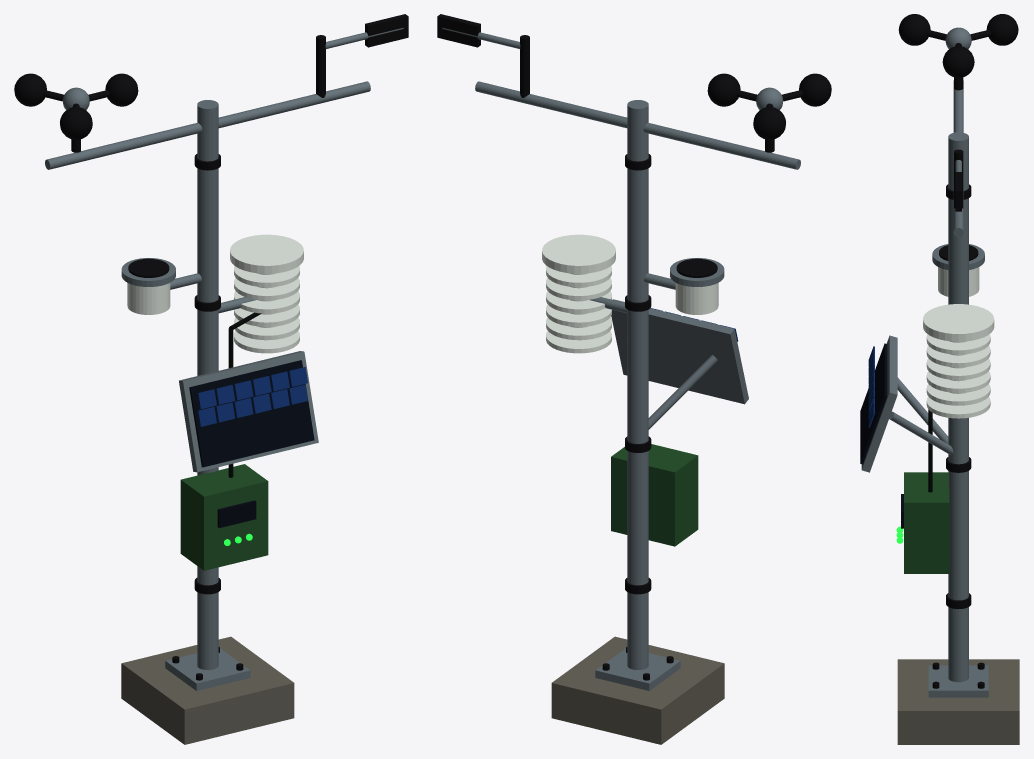
The model's file is estacao.glb.
The picture shows the model from 3 angles, left to right: view 1: azimuth 30°, elevation 25°; view 2: azimuth 150°, elevation 25°; view 3: azimuth 270°, elevation 25°; orthographic projection. The views are drawn at different scales.
Parts seen in each view (by area): view 1: Fundacao de concreto, Mastro principal, Caixa eletronica, Superficie fotovoltaica, Braco horizontal superior, Moldura do painel solar, Tampa do abrigo meteorologico, Placa de fixacao, Corpo do pluviometro, Paleta da biruta, Prato de protecao do sensor, Prato de protecao do sensor.004 (+10 smaller); view 2: Mastro principal, Fundacao de concreto, Moldura do painel solar, Caixa eletronica, Braco horizontal superior, Tampa do abrigo meteorologico, Placa de fixacao, Corpo do pluviometro, Paleta da biruta, Prato de protecao do sensor, Prato de protecao do sensor.004, Prato de protecao do sensor.001 (+9 smaller); view 3: Fundacao de concreto, Mastro principal, Caixa eletronica, Tampa do abrigo meteorologico, Placa de fixacao, Superficie fotovoltaica, Moldura do painel solar, Braco horizontal superior, Prato de protecao do sensor, Prato de protecao do sensor.004, Prato de protecao do sensor.003, Prato de protecao do sensor.001 (+12 smaller).
Part boxes in pixels (box(x1,y1,x2,y2)): Fundacao de concreto: box(121, 636, 294, 744); Mastro principal: box(197, 100, 218, 669); Caixa eletronica: box(180, 464, 268, 570); Superficie fotovoltaica: box(189, 360, 314, 467); Braco horizontal superior: box(45, 81, 370, 169); Moldura do painel solar: box(179, 351, 318, 472); Tampa do abrigo meteorologico: box(230, 234, 303, 273); Placa de fixacao: box(165, 648, 250, 690); Corpo do pluviometro: box(127, 283, 170, 314); Paleta da biruta: box(365, 14, 408, 47); Prato de protecao do sensor: box(234, 331, 299, 353); Prato de protecao do sensor.004: box(234, 278, 299, 300); Mastro principal: box(627, 100, 648, 669); Fundacao de concreto: box(551, 636, 724, 744); Moldura do painel solar: box(611, 299, 748, 404); Caixa eletronica: box(611, 444, 698, 546); Braco horizontal superior: box(475, 81, 800, 169); Tampa do abrigo meteorologico: box(542, 234, 615, 273); Placa de fixacao: box(595, 648, 680, 690); Corpo do pluviometro: box(675, 283, 718, 314); Paleta da biruta: box(437, 14, 480, 47); Prato de protecao do sensor: box(546, 331, 611, 353); Prato de protecao do sensor.004: box(546, 278, 611, 300); Prato de protecao do sensor.001: box(546, 317, 611, 340); Fundacao de concreto: box(897, 659, 1019, 744); Mastro principal: box(948, 132, 968, 682); Caixa eletronica: box(904, 472, 949, 573); Tampa do abrigo meteorologico: box(923, 304, 994, 341); Placa de fixacao: box(928, 665, 988, 697); Superficie fotovoltaica: box(860, 343, 887, 464); Moldura do painel solar: box(861, 335, 897, 472); Braco horizontal superior: box(953, 80, 963, 236); Prato de protecao do sensor: box(926, 397, 990, 418); Prato de protecao do sensor.004: box(926, 345, 990, 367); Prato de protecao do sensor.003: box(926, 358, 990, 380); Prato de protecao do sensor.001: box(926, 384, 990, 405).
Size of the model in its own units: 2.18 by 3.7 by 0.8485.
9 materials, 9 textured.
